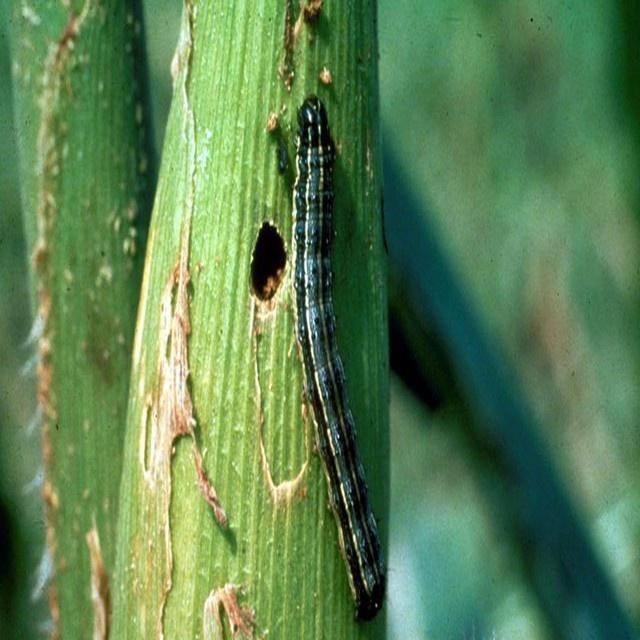gusano_cogollero: (296, 97, 384, 620)
